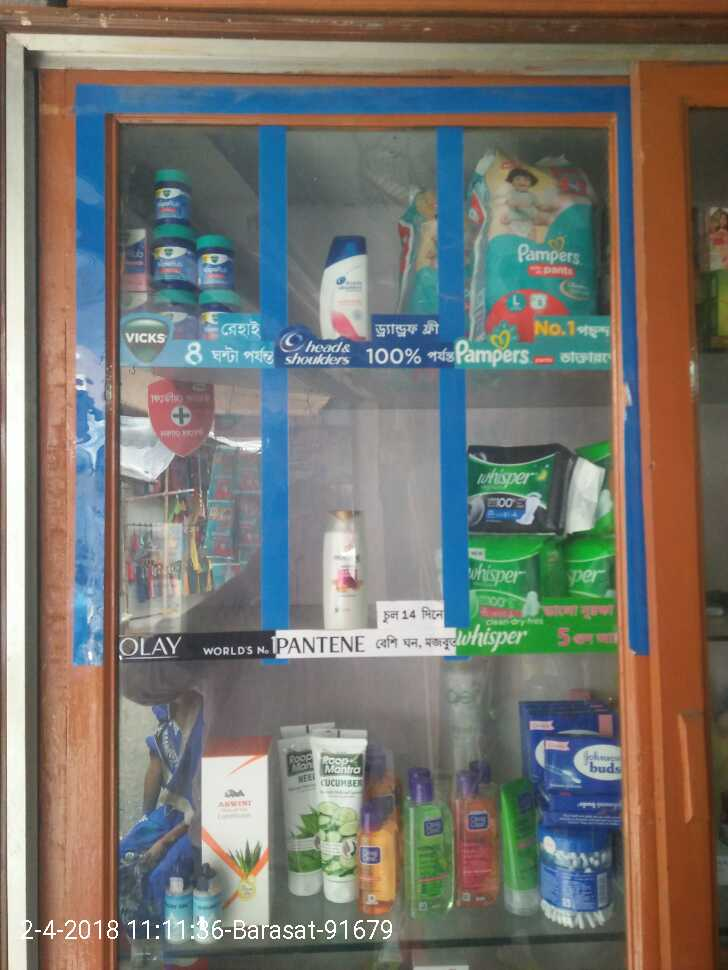vicks: (120, 158, 231, 315)
